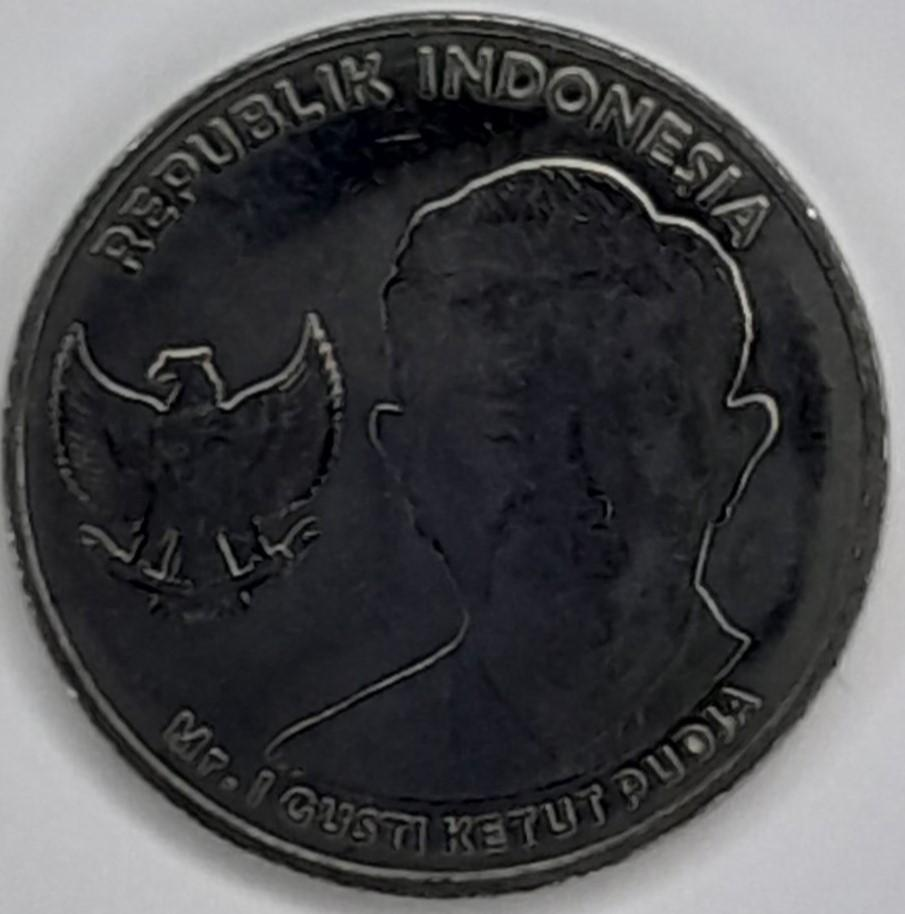coin_1000_e2016: (15, 18, 893, 914)
